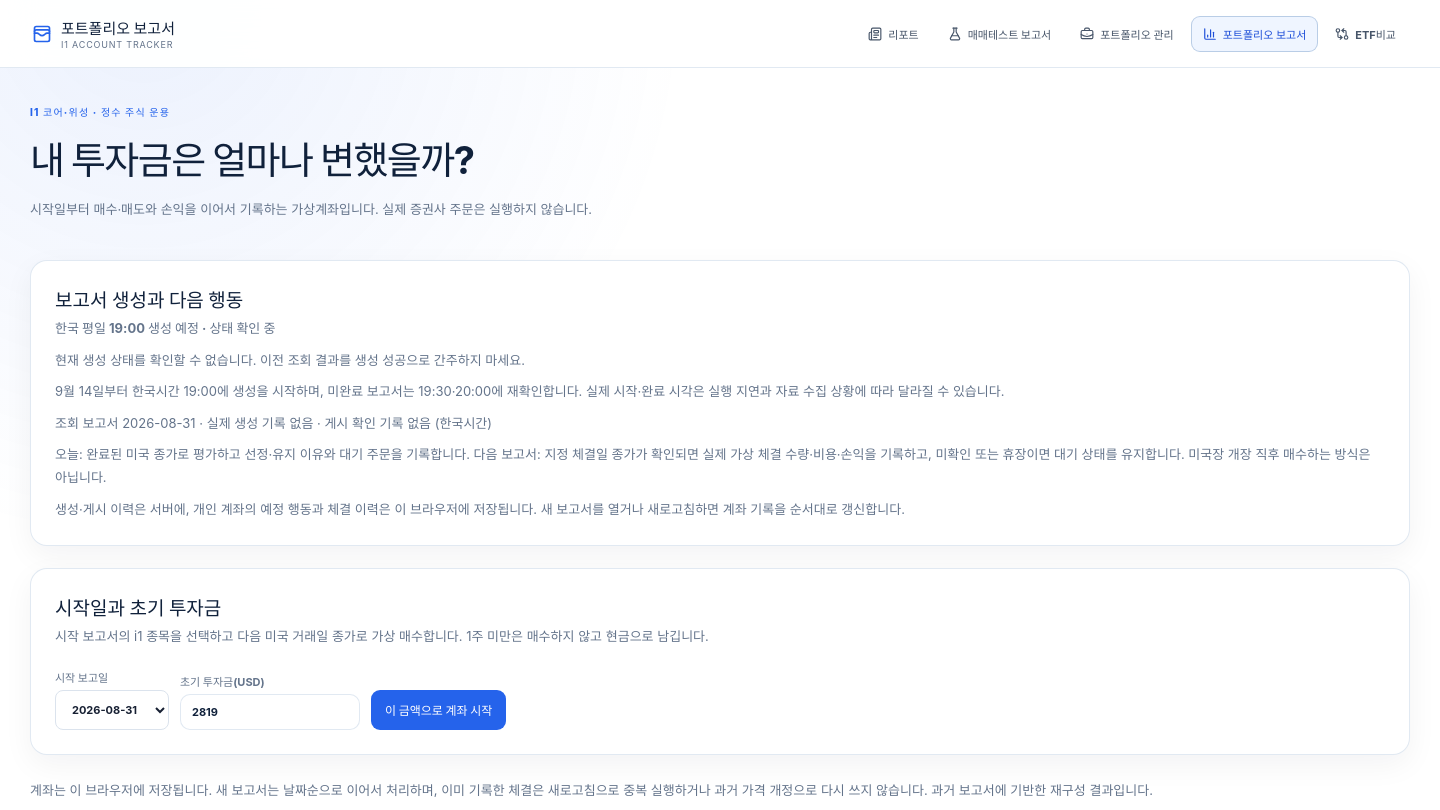
Scenario: starts an integer account and shows cash, P&L, buy dates and the trade ledger
Check: the button "이 금액으로 계좌 시작" is enabled, box [371, 690, 506, 730]
Replace the text in the number field labelled "초기 투자금(USD)" with "10000" at point(270, 712), box [180, 694, 360, 730]
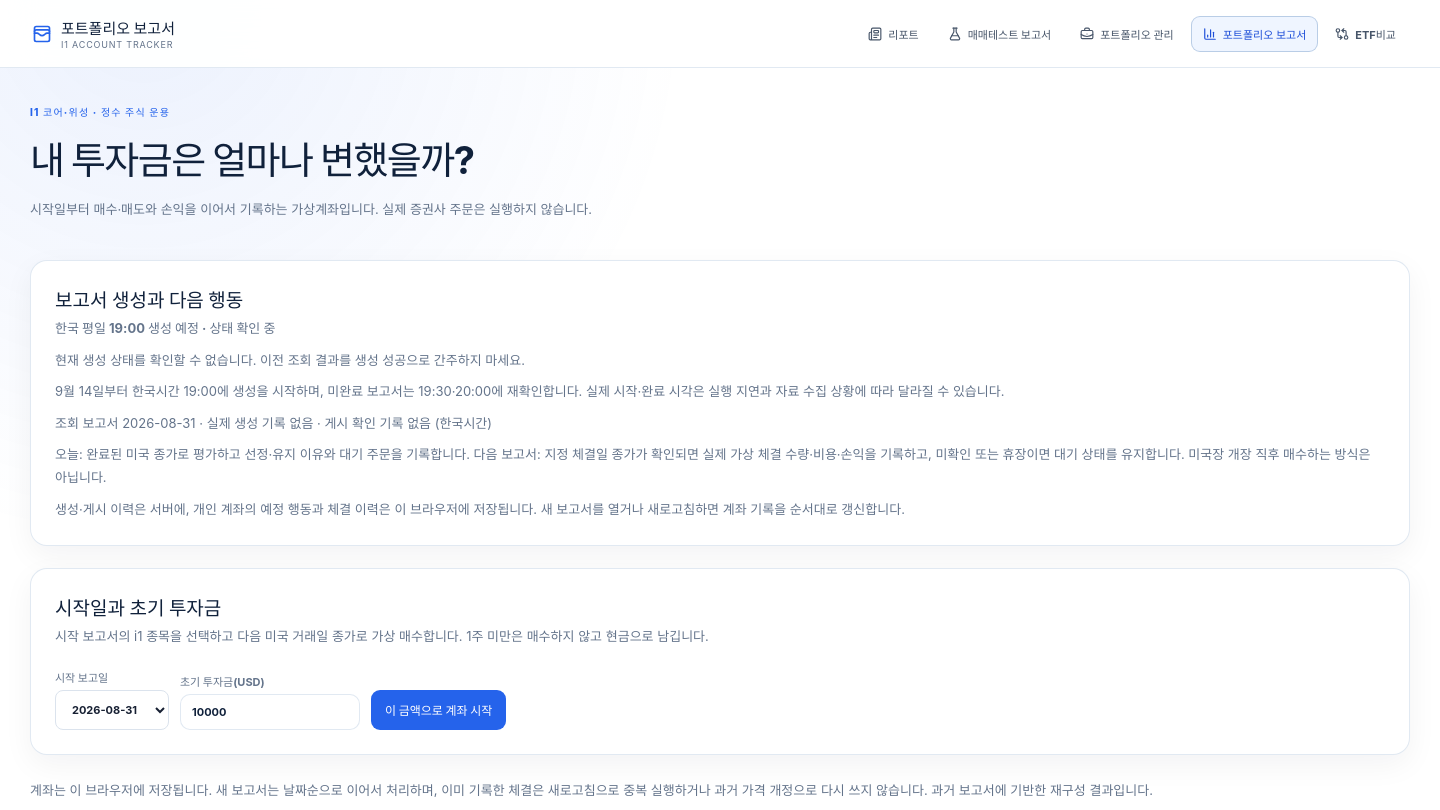
Click the button "이 금액으로 계좌 시작".
click(439, 710)  # box [371, 690, 506, 730]
(page scrolled)
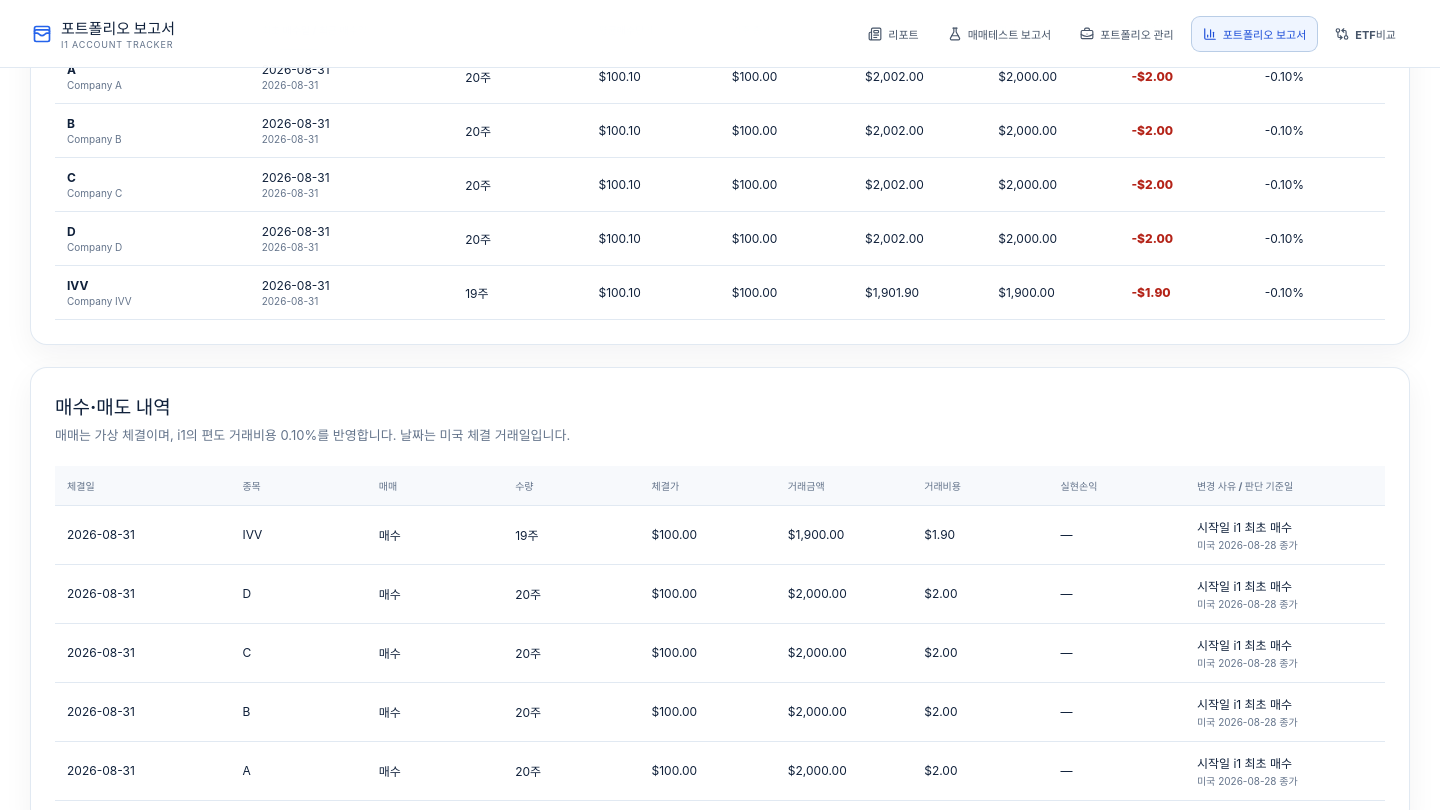
Check: the heading "매수·매도 내역" is shown, box [55, 396, 171, 419]
